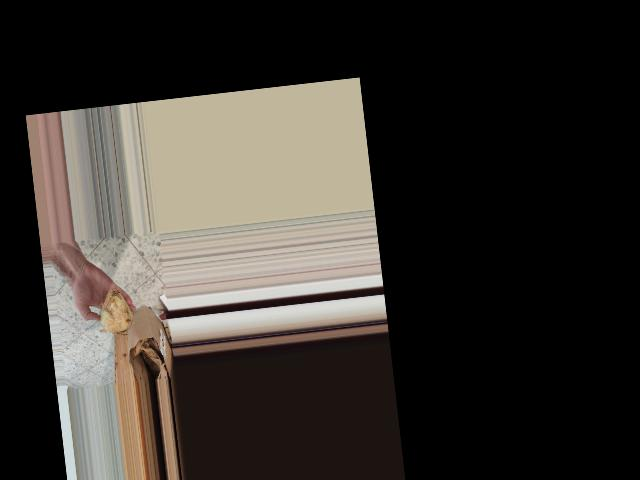onion: (95, 284, 136, 337)
